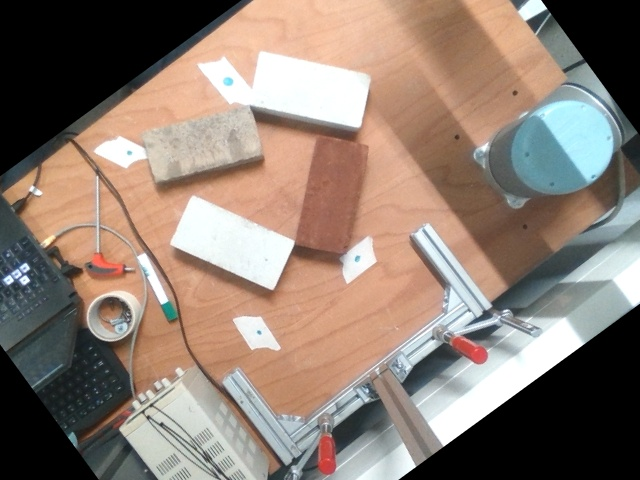brick: (168, 192, 296, 290), (138, 102, 263, 183), (247, 49, 371, 127), (291, 133, 369, 254)
